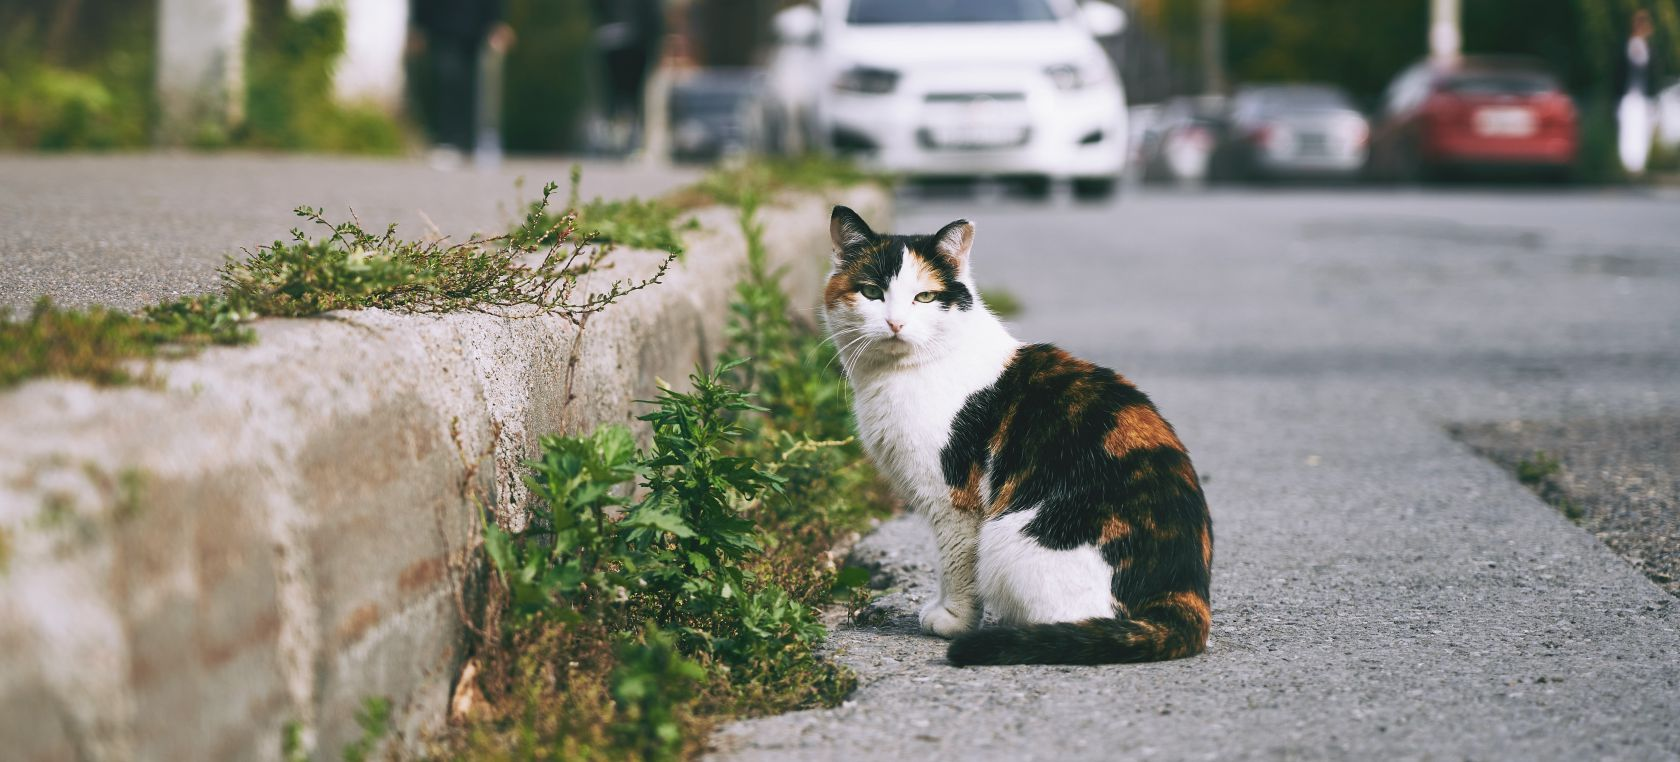cat: (769, 156, 1224, 658)
